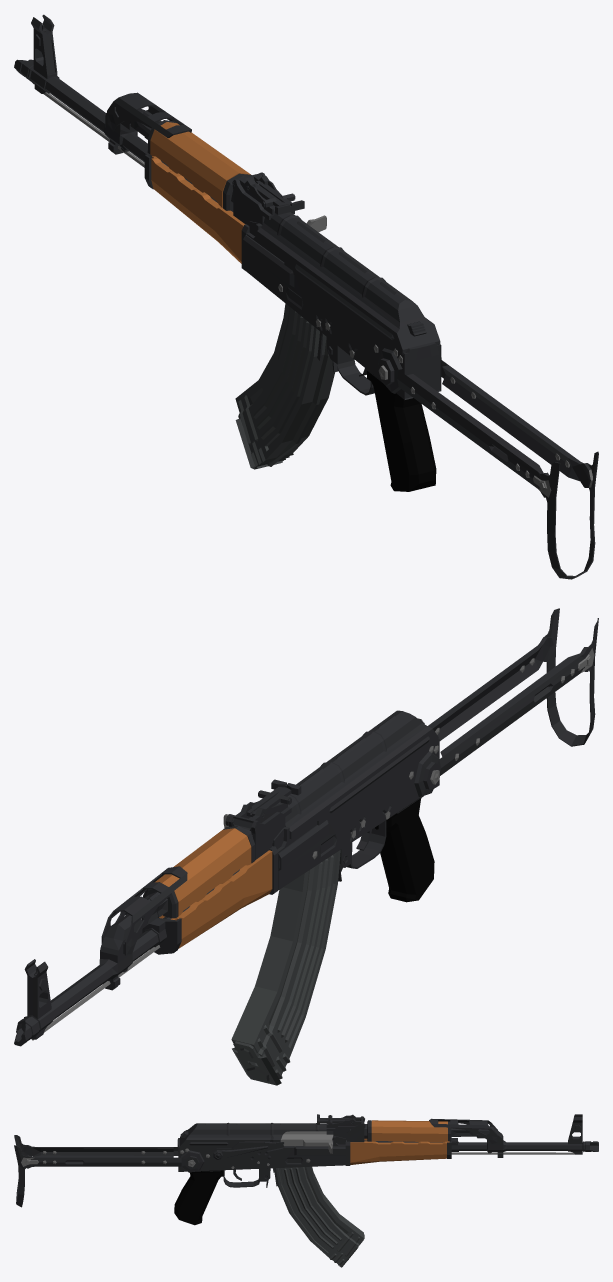
File: low-poly_zastava_m70ab2.glb
3 views of the same model, one above another, from view 1: azimuth 30°, elevation 25°; view 2: azimuth 150°, elevation 25°; view 3: azimuth 270°, elevation 25° (orthographic). The views are drawn at different scales.
Parts seen in each view (by area): view 1: receiver_5, magazine_9, dust_cover_17, stock_22, grip.001_15, handguard_lower_12, handguard_upper_13, stock_butt_23, gas_shutoff_sight_24, rear_sight_6, gas_tube_16; view 2: receiver_5, magazine_9, dust_cover_17, stock_22, grip.001_15, handguard_lower_12, handguard_upper_13, gas_shutoff_sight_24, stock_butt_23, lower_handguard_cover_11, gas_tube_16, rear_sight_6; view 3: receiver_5, magazine_9, stock_22, dust_cover_17, handguard_lower_12, grip.001_15, handguard_upper_13, safety_selector_2, bolt_carrier_20, gas_shutoff_sight_24, stock_butt_23, gas_tube_16 (+1 smaller).
Boxes of the visible parts, <box> form: receiver_5: <box>30,14,441,399</box>; magazine_9: <box>235,303,334,469</box>; dust_cover_17: <box>257,207,440,354</box>; stock_22: <box>377,348,592,497</box>; grip.001_15: <box>365,368,436,491</box>; handguard_lower_12: <box>151,156,249,270</box>; handguard_upper_13: <box>150,122,250,207</box>; stock_butt_23: <box>539,451,598,579</box>; gas_shutoff_sight_24: <box>107,92,191,137</box>; rear_sight_6: <box>247,180,304,214</box>; gas_tube_16: <box>130,109,251,210</box>; receiver_5: <box>21,738,439,1039</box>; magazine_9: <box>231,850,340,1085</box>; dust_cover_17: <box>278,710,438,838</box>; stock_22: <box>414,637,594,797</box>; grip.001_15: <box>375,796,434,902</box>; handguard_lower_12: <box>159,846,278,948</box>; handguard_upper_13: <box>155,828,251,915</box>; gas_shutoff_sight_24: <box>101,866,187,955</box>; stock_butt_23: <box>542,608,598,746</box>; lower_handguard_cover_11: <box>142,918,181,954</box>; gas_tube_16: <box>125,826,255,927</box>; rear_sight_6: <box>246,779,301,816</box>; receiver_5: <box>177,1114,582,1187</box>; magazine_9: <box>273,1166,364,1267</box>; stock_22: <box>21,1145,204,1172</box>; dust_cover_17: <box>180,1122,332,1148</box>; handguard_lower_12: <box>345,1138,449,1165</box>; grip.001_15: <box>174,1170,224,1225</box>; handguard_upper_13: <box>371,1120,447,1141</box>; safety_selector_2: <box>211,1141,284,1161</box>; bolt_carrier_20: <box>280,1131,333,1153</box>; gas_shutoff_sight_24: <box>429,1118,497,1144</box>; stock_butt_23: <box>14,1135,31,1207</box>; gas_tube_16: <box>364,1120,476,1141</box>.
Bounding box in the file's own units: 0.0773 × 0.2674 × 0.9519.
